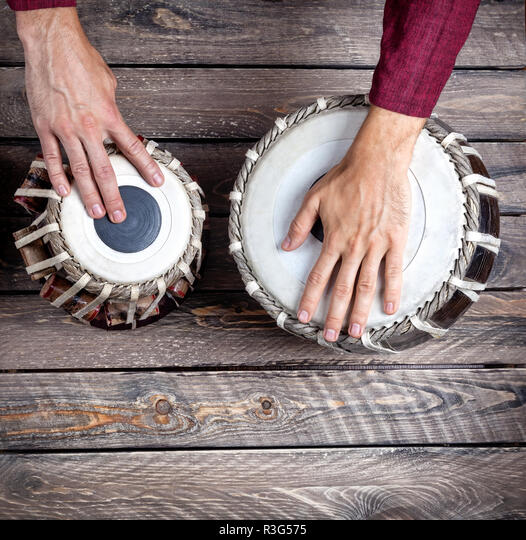tabla: (229, 95, 498, 353), (24, 140, 208, 320)
